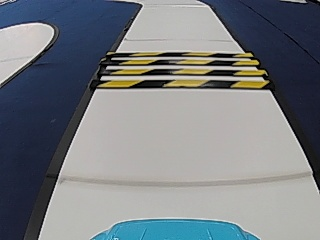bump: (115, 52, 246, 90)
